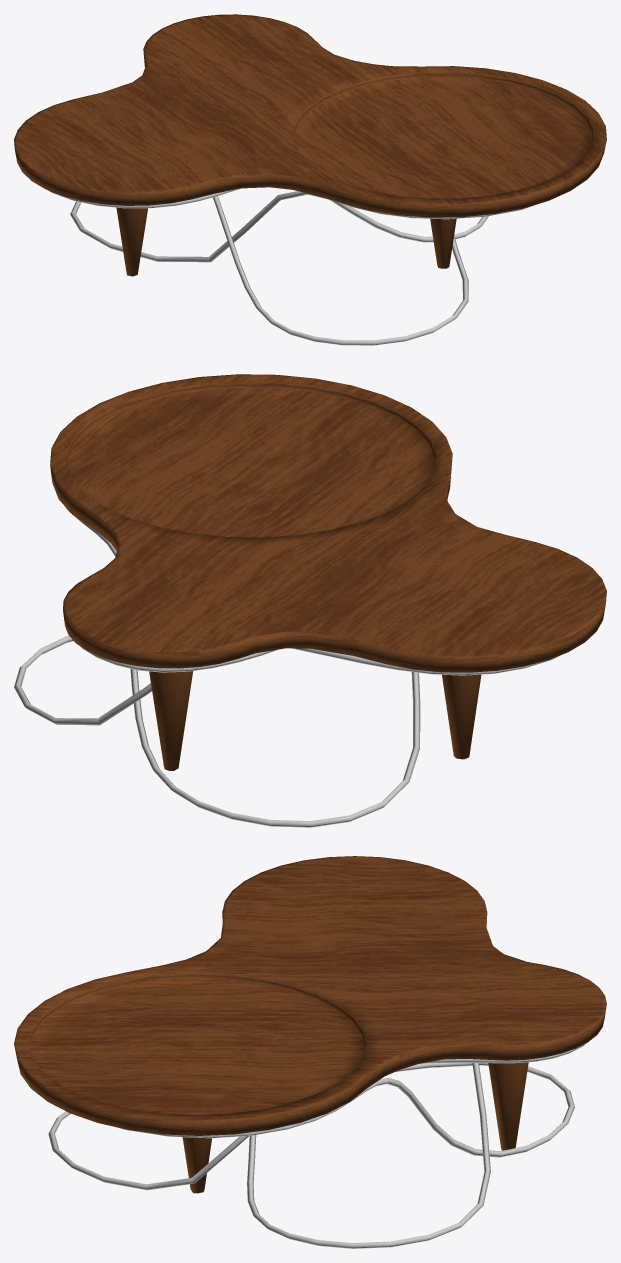
Rendered from Table_Desk.fbx.
3 views of the same model, one above another, from view 1: azimuth 30°, elevation 25°; view 2: azimuth 150°, elevation 25°; view 3: azimuth 270°, elevation 25° (orthographic). The views are drawn at different scales.
Parts seen in each view (by area): view 1: Table_Desk; view 2: Table_Desk; view 3: Table_Desk.
Part boxes in pixels (<box>): Table_Desk: <box>14,14,606,345</box>; Table_Desk: <box>14,374,606,827</box>; Table_Desk: <box>14,856,606,1248</box>.
Size of the model in its own units: 190 by 49.92 by 180.
3 materials, 2 textured.
